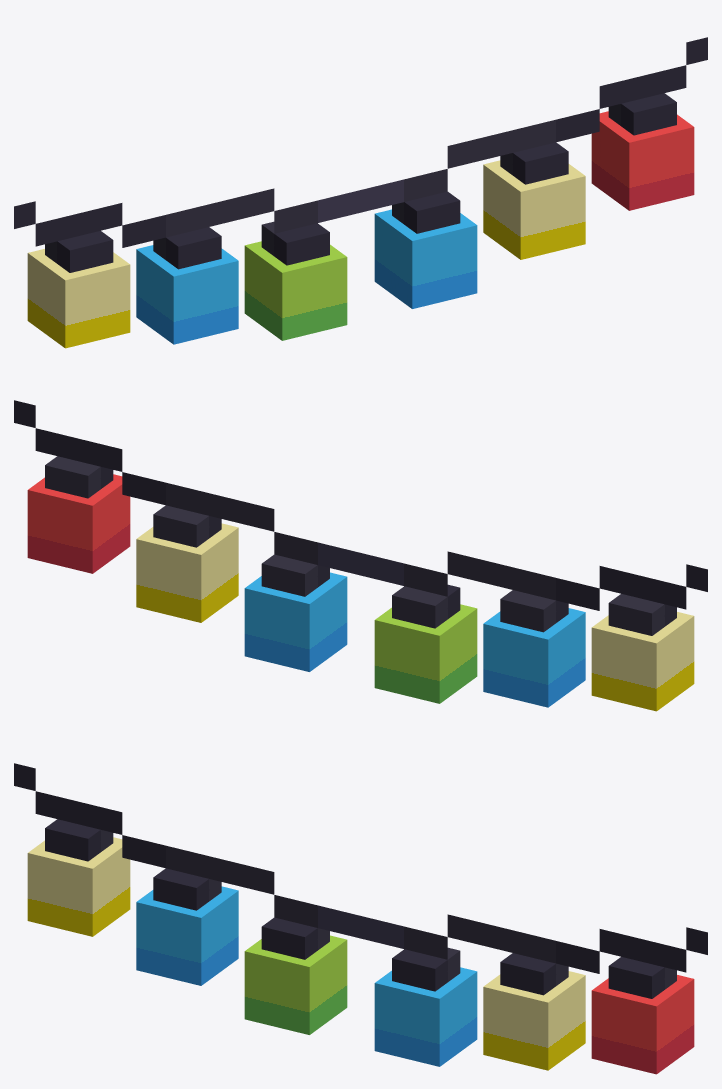
The model's file is lights.gltf.
The picture shows the model from 3 angles, top to bottom: view 1: azimuth 30°, elevation 25°; view 2: azimuth 150°, elevation 25°; view 3: azimuth 330°, elevation 25°; orthographic projection.
Parts seen in each view (by area): view 1: cube (×13); view 2: cube (×13); view 3: cube (×13).
Part boxes in pixels (left/top/right/bottom): cube (×13): left=14, top=37, right=707, bottom=348; cube (×13): left=14, top=400, right=707, bottom=711; cube (×13): left=14, top=763, right=707, bottom=1074.
Bounding box in the file's own units: 2 × 0.5625 × 0.1875.
Materials: 1 (1 with a texture image).
